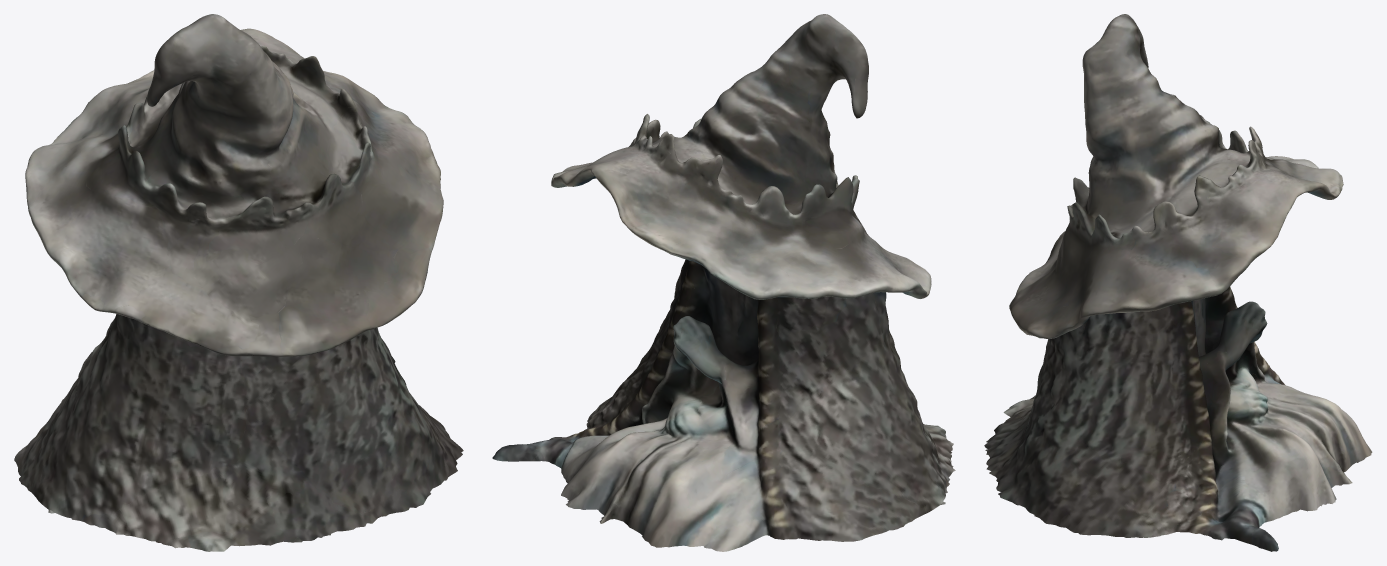
File: figurine-v3.glb
The picture shows the model from 3 angles, left to right: view 1: azimuth 30°, elevation 25°; view 2: azimuth 150°, elevation 25°; view 3: azimuth 270°, elevation 25°; orthographic projection. The views are drawn at different scales.
Size of the model in its own units: 0.7776 by 0.8482 by 0.7133.
1 material, 1 textured.
